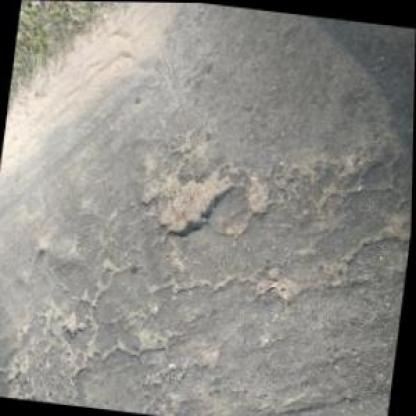pothole: (154, 158, 236, 243), (241, 174, 273, 216)
